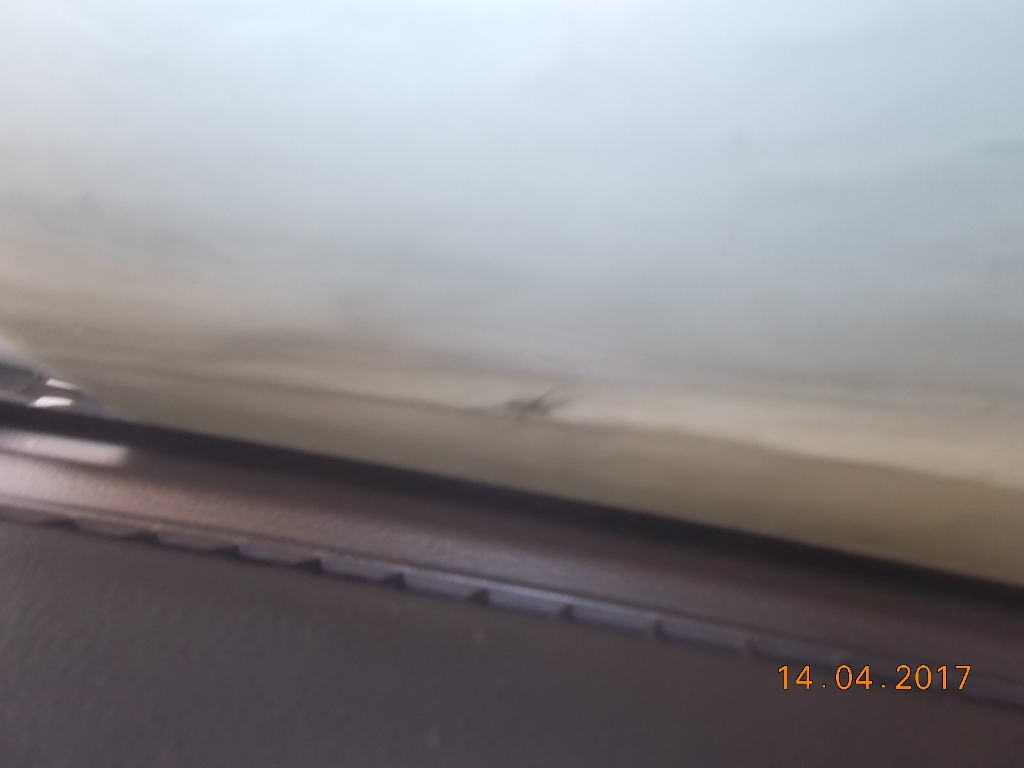Scratch_or_spot: (486, 385, 588, 459)
